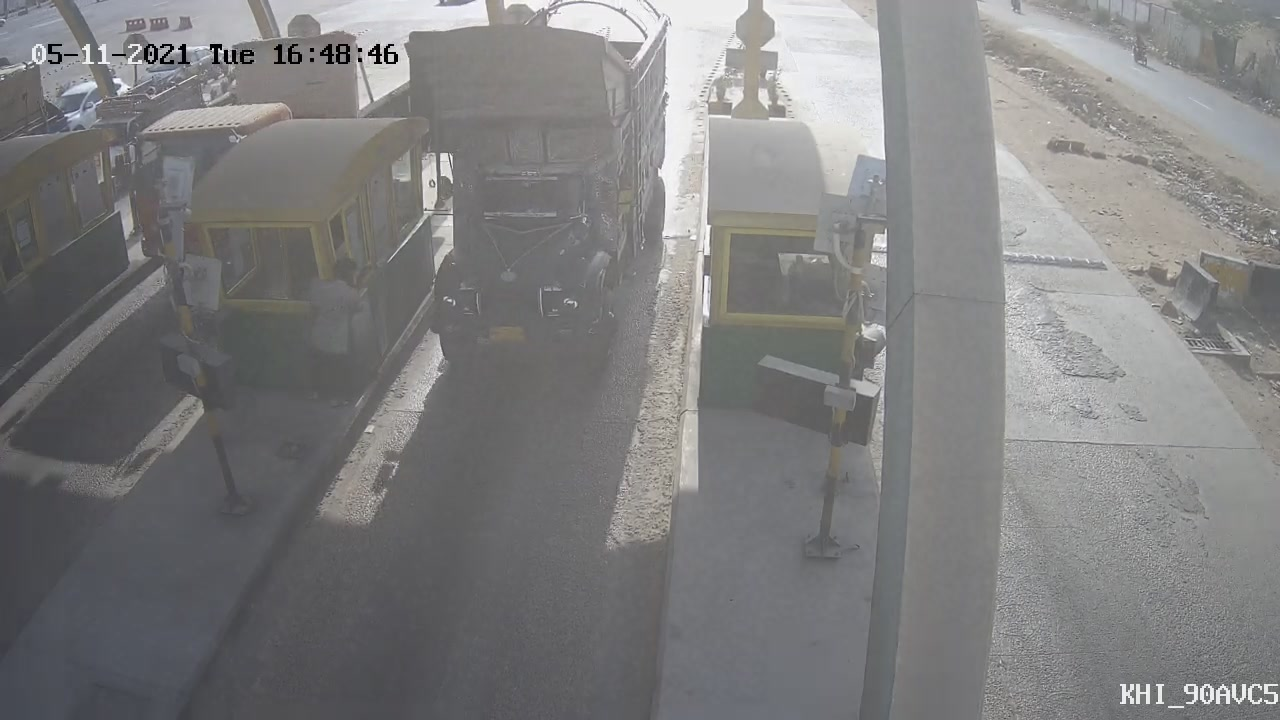F5: (396, 1, 692, 392)
